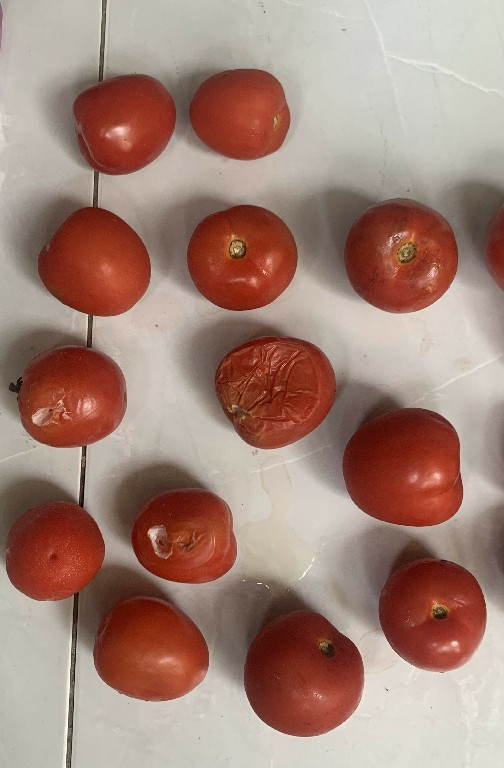NG: (332, 185, 456, 319), (208, 333, 344, 451), (0, 338, 133, 449), (126, 483, 235, 590)
OK: (241, 607, 377, 748), (328, 401, 472, 531), (86, 582, 219, 721), (19, 198, 155, 324), (373, 545, 487, 684), (0, 484, 119, 614), (180, 197, 305, 315), (56, 69, 182, 179), (180, 58, 292, 163)
